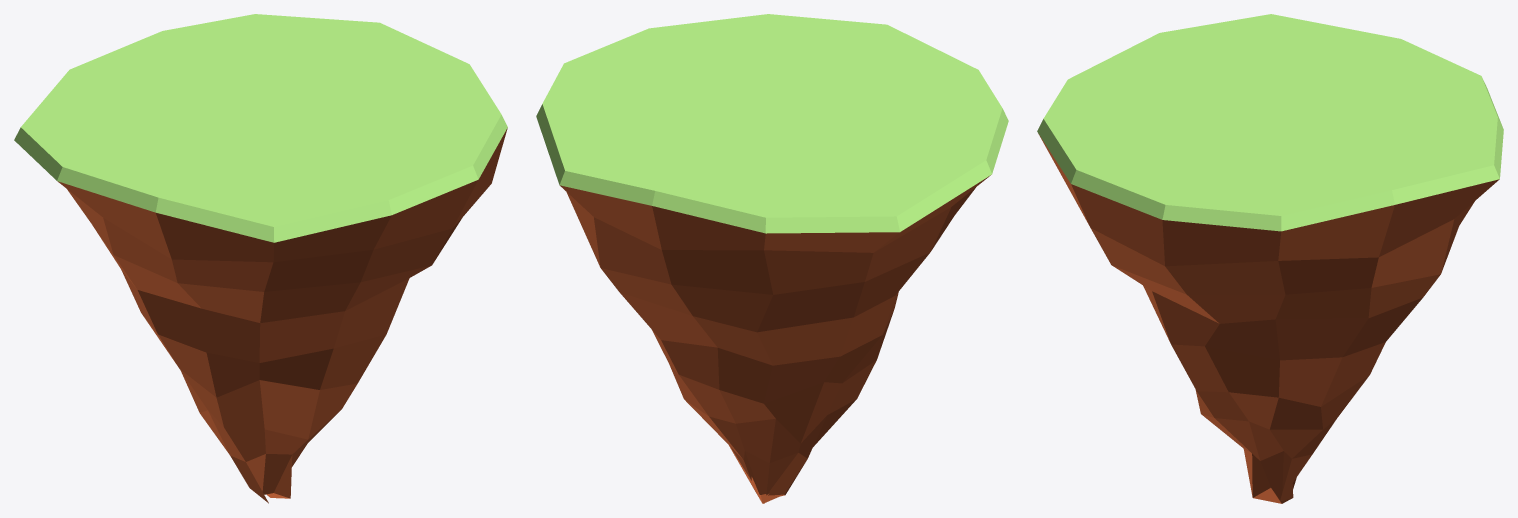
Rendered from island7.fbx.
3 views of the same model, side by side, from view 1: azimuth 30°, elevation 25°; view 2: azimuth 150°, elevation 25°; view 3: azimuth 270°, elevation 25° (orthographic).
Parts seen in each view (by area): view 1: Cylinder.001, Cylinder; view 2: Cylinder.001, Cylinder; view 3: Cylinder.001, Cylinder.
Boxes of the visible parts, x1,y1,x2,y2 form: Cylinder.001: (14, 14, 507, 242); Cylinder: (57, 128, 507, 503); Cylinder.001: (536, 14, 1008, 233); Cylinder: (560, 175, 990, 503); Cylinder.001: (1037, 14, 1503, 231); Cylinder: (1038, 133, 1499, 503).
Bounding box in the file's own units: 4053 × 3613 × 3879.
